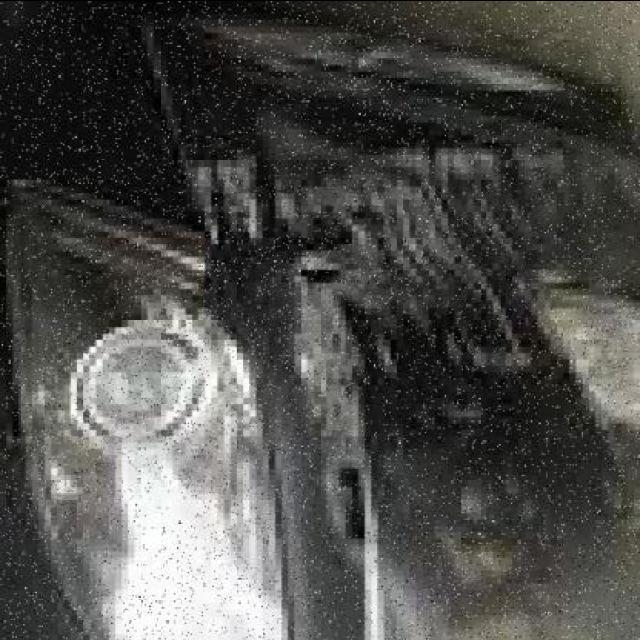front-bumper-dent: (154, 6, 634, 640)
